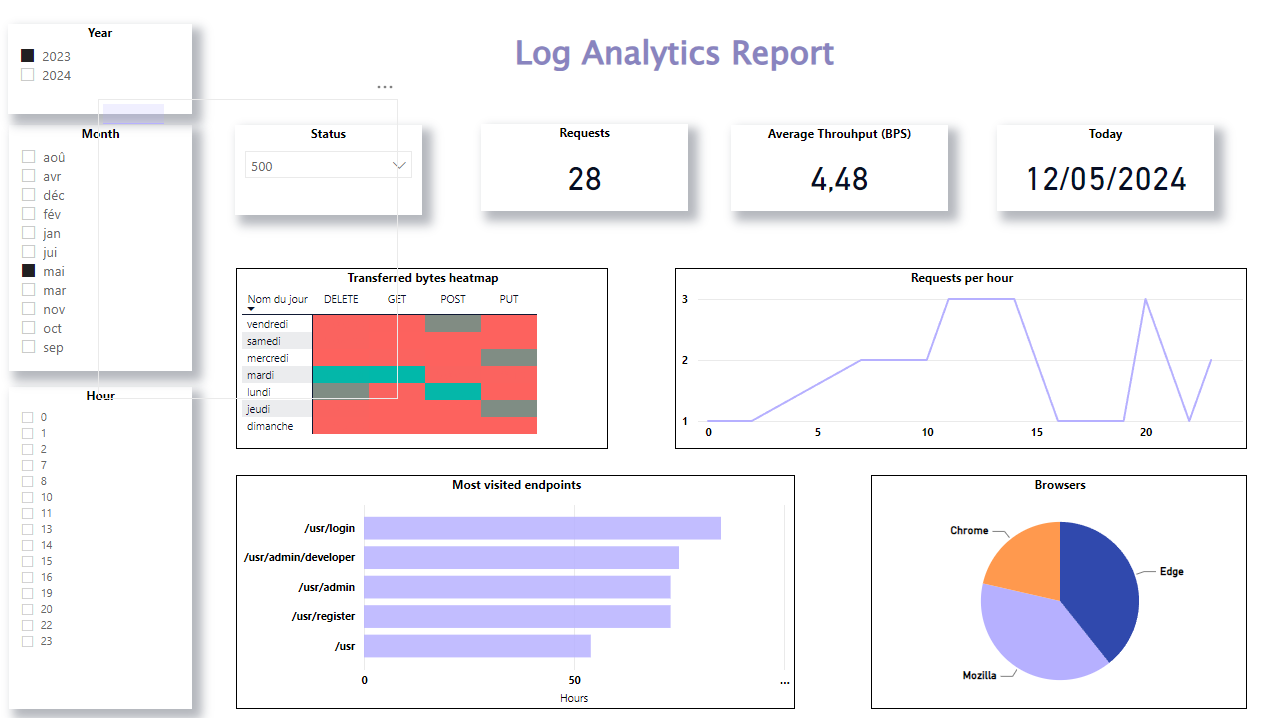

The dashboard page shown, as its layout file describes it:
{"tool":"powerbi","page":{"name":"Log Analysis","canvas":[1280,720],"ordinal":0},"visuals":[{"type":"slicer","title":"Month","fields":{"Values":["loganalyticsdatabase loganalytics.Nom du mois"]},"box":[11,126,183,246],"z":0},{"type":"slicer","title":"Year","fields":{"Values":["loganalyticsdatabase loganalytics.Année"]},"box":[9.9,25.2,183.6,90],"z":1000},{"type":"slicer","title":"Status","fields":{"Values":["loganalyticsdatabase loganalytics.status"]},"box":[237,126,187,90],"z":1001},{"type":"card","title":"Average Throuhput (BPS)","fields":{"Values":["loganalyticsdatabase loganalytics.Average Throughput"]},"box":[733,126,217,86],"z":1002},{"type":"card","title":"Requests","fields":{"Values":["loganalyticsdatabase loganalytics.Requests"]},"box":[483,125,207,87],"z":1003},{"type":"lineChart","title":"Requests per hour","fields":{"Category":["loganalyticsdatabase loganalytics.Heure"],"Y":["CountNonNull(loganalyticsdatabase loganalytics.request)"]},"box":[677,269,572,181],"z":1004},{"type":"pieChart","title":"Browsers","fields":{"Category":["loganalyticsdatabase loganalytics.browser"],"Y":["CountNonNull(loganalyticsdatabase loganalytics.browser)"]},"box":[873,476,376,234],"z":1005},{"type":"pivotTable","title":"Transferred bytes heatmap","fields":{"Columns":["loganalyticsdatabase loganalytics.request"],"Rows":["loganalyticsdatabase loganalytics.Nom du jour"],"Values":["Sum(loganalyticsdatabase loganalytics.byte)"]},"box":[238,269,372,181],"z":1006},{"type":"clusteredBarChart","title":"Most visited endpoints","fields":{"Category":["loganalyticsdatabase loganalytics.endpoint"],"Y":["Sum(loganalyticsdatabase loganalytics.Heure)"]},"box":[238,476,559,234],"z":1007},{"type":"slicer","title":"Hour","fields":{"Values":["loganalyticsdatabase loganalytics.Heure"]},"box":[11,388,183,322],"z":1008},{"type":"card","title":"Today","fields":{"Values":["loganalyticsdatabase loganalytics.Today"]},"box":[999,126,217,86],"z":1009},{"type":"textbox","box":[100,100,300,300],"z":1010},{"type":"textbox","box":[100,100,300,300],"z":1011},{"type":"textbox","box":[364,25,625,75],"z":1012}]}

Visuals, with their boxes in screenshot pixels (x1, y1, x2, y2):
"Month" slicer: [x1=14, y1=127, x2=194, y2=369]
"Year" slicer: [x1=13, y1=28, x2=193, y2=116]
"Status" slicer: [x1=236, y1=127, x2=420, y2=216]
"Average Throuhput (BPS)" card: [x1=723, y1=127, x2=937, y2=212]
"Requests" card: [x1=478, y1=126, x2=681, y2=212]
"Requests per hour" lineChart: [x1=668, y1=268, x2=1230, y2=445]
"Browsers" pieChart: [x1=861, y1=471, x2=1230, y2=701]
"Transferred bytes heatmap" pivotTable: [x1=237, y1=268, x2=603, y2=445]
"Most visited endpoints" clusteredBarChart: [x1=237, y1=471, x2=786, y2=701]
"Hour" slicer: [x1=14, y1=384, x2=194, y2=701]
"Today" card: [x1=985, y1=127, x2=1198, y2=212]
textbox: [x1=102, y1=102, x2=396, y2=396]
textbox: [x1=102, y1=102, x2=396, y2=396]
textbox: [x1=361, y1=28, x2=975, y2=102]
